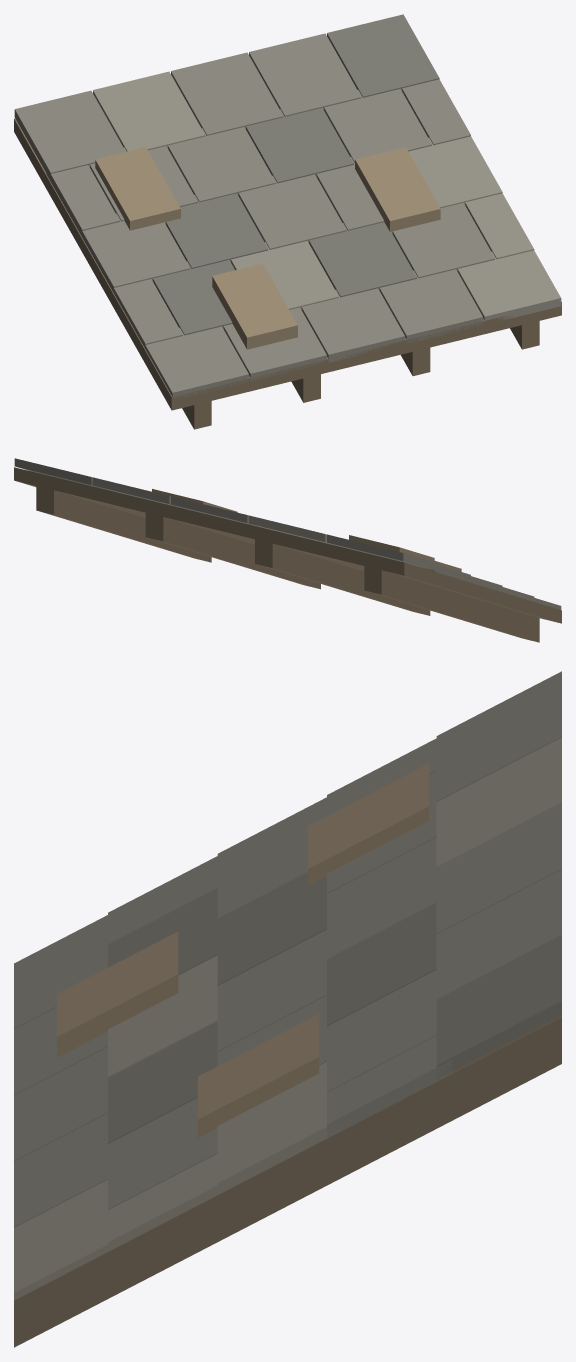
The model's file is env_roof_shingle_timber_patch_c_v03_scattered_repairs.glb.
3 views of the same model, one above another, from view 1: azimuth 30°, elevation 25°; view 2: azimuth 150°, elevation 25°; view 3: azimuth 270°, elevation 25° (orthographic). The views are drawn at different scales.
Visible parts, largest first — view 1: material_4, material_6, material_5, material_3, material_2; view 2: material_2, material_4, material_3, material_6, material_5; view 3: material_4, material_6, material_5, material_2, material_3.
Part boxes in pixels (x1,y1,x2,y2): material_4: (14, 33, 494, 399); material_6: (153, 14, 439, 335); material_5: (93, 71, 561, 320); material_3: (95, 147, 440, 349); material_2: (14, 118, 561, 429); material_2: (14, 467, 561, 642); material_4: (93, 477, 561, 609); material_3: (152, 489, 461, 571); material_6: (14, 458, 106, 489); material_5: (249, 515, 341, 547); material_4: (14, 671, 561, 1227); material_6: (108, 873, 561, 1143); material_5: (14, 737, 561, 1300); material_2: (14, 1015, 561, 1347); material_3: (57, 763, 428, 1137).
Size of the model in its own units: 2 by 1.03 by 1.4.
